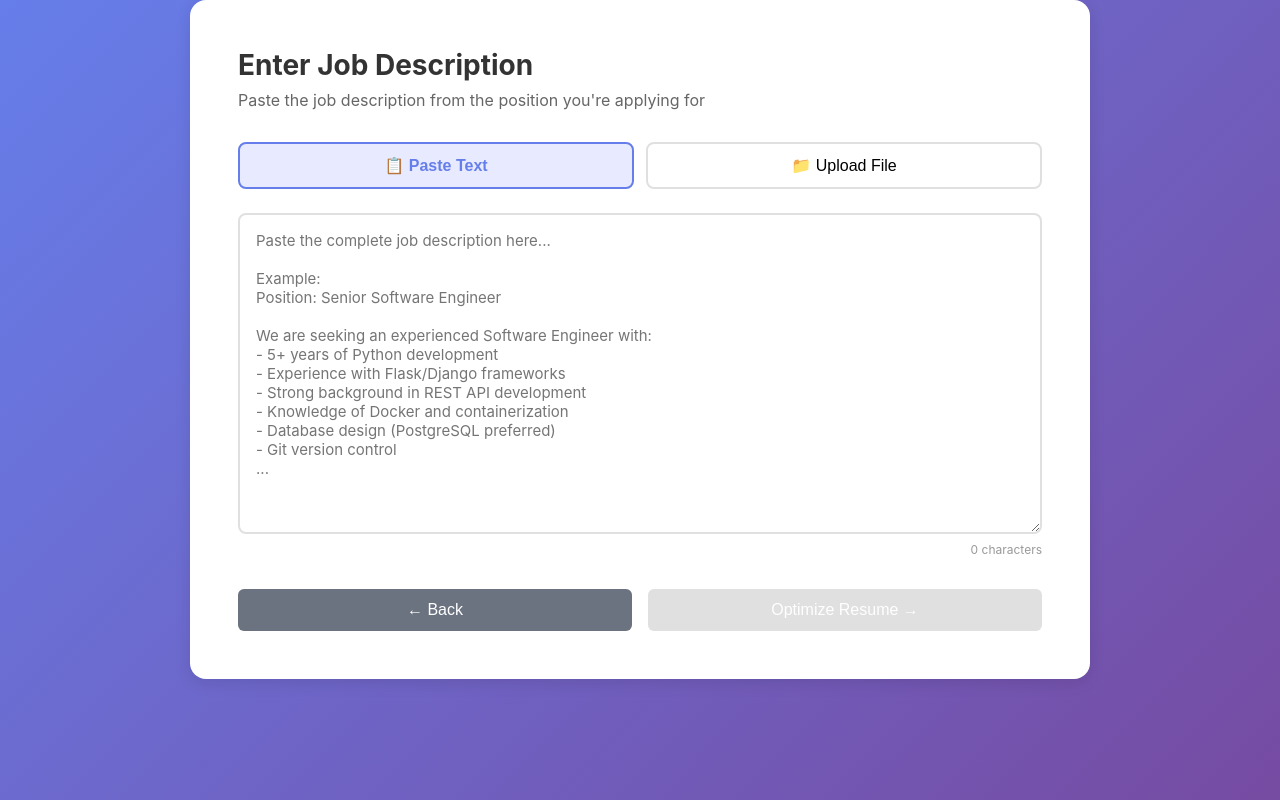
Test: JobDescriptionInput › toggle to Upload File mode
The width and height of the screenshot is (1280, 800).
Click the button "📁 Upload File": (844, 166) [646,142,1042,189]
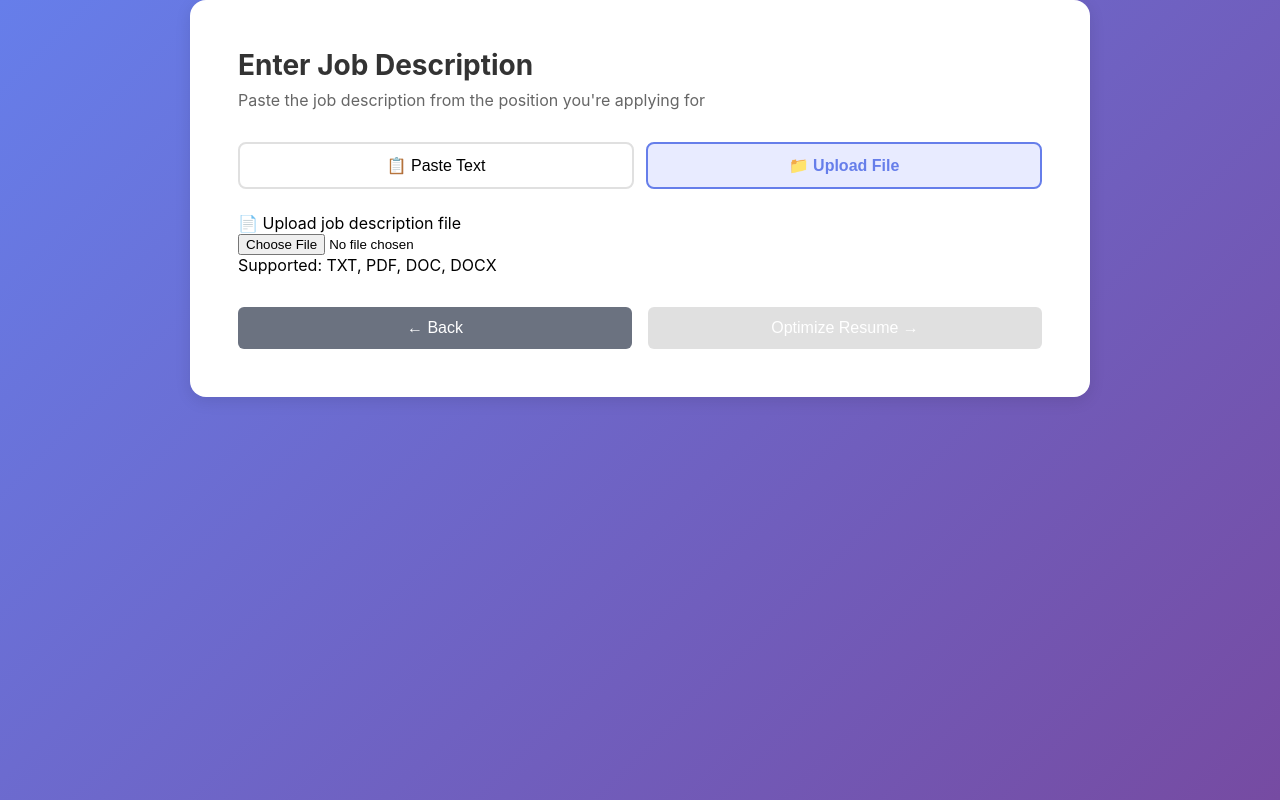
Expected: the text "📄 Upload job description file" is shown, [238,213,461,233]
